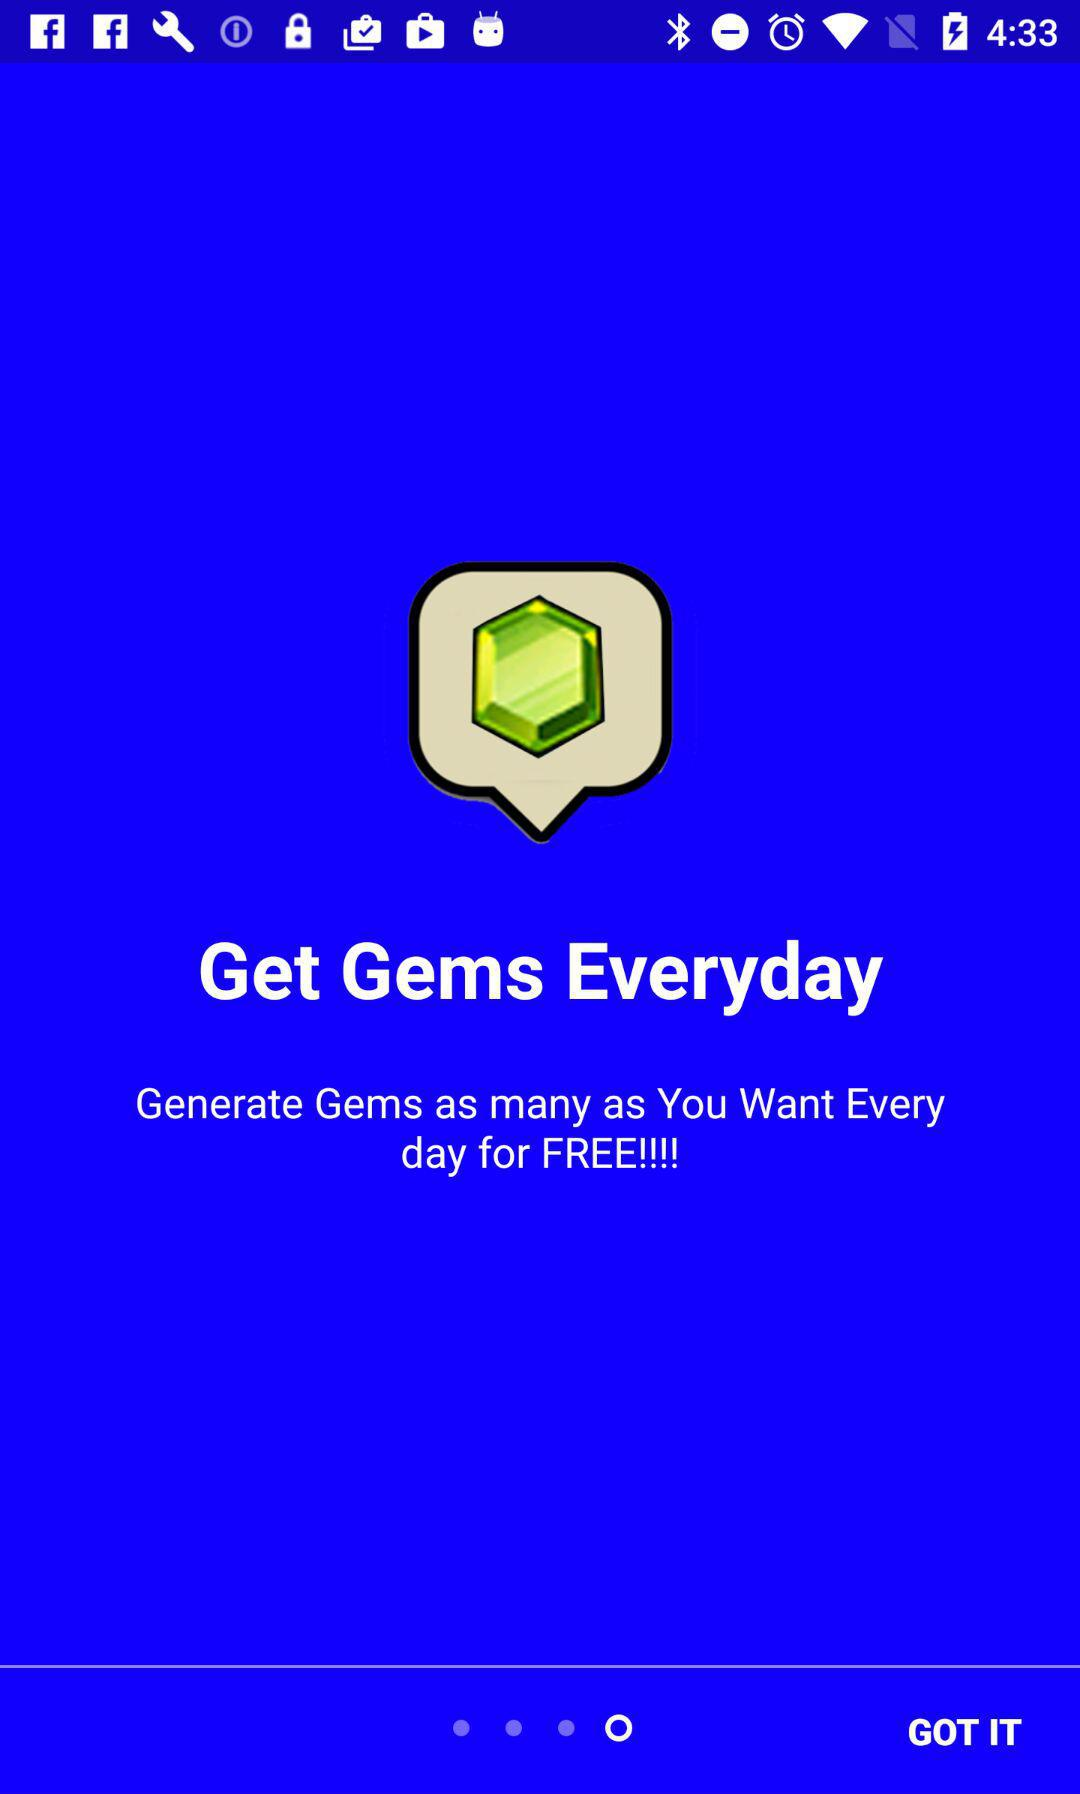Image: (407, 561, 674, 846)
PageIndicator: (454, 1713, 634, 1743)
Text: (137, 1085, 947, 1178), (199, 939, 885, 1017), (907, 1717, 1024, 1748)
UpperTaskBar: (1, 1, 1080, 64)
